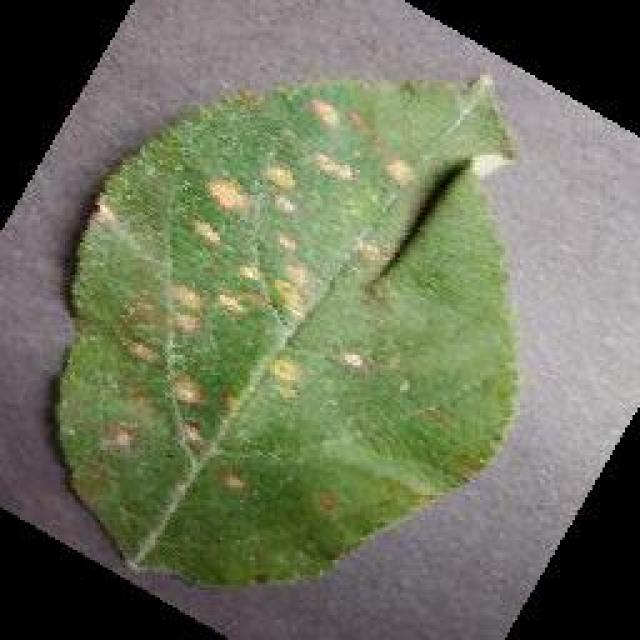apple healthy: (50, 72, 522, 590)
